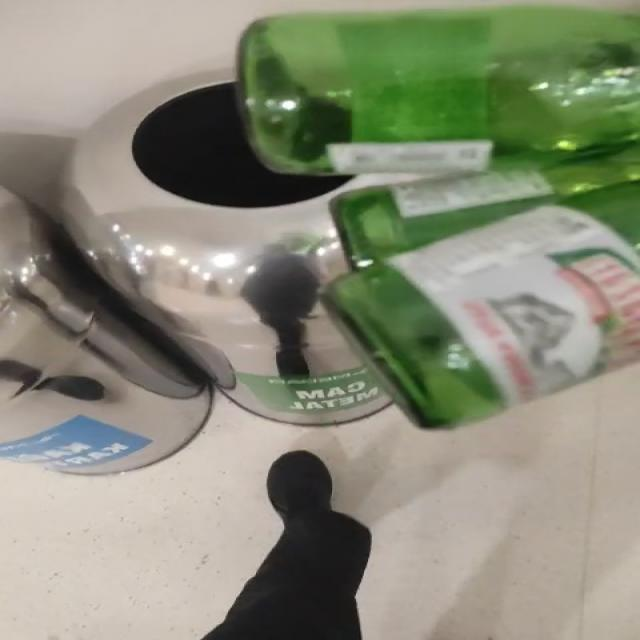glass: (239, 5, 639, 428)
